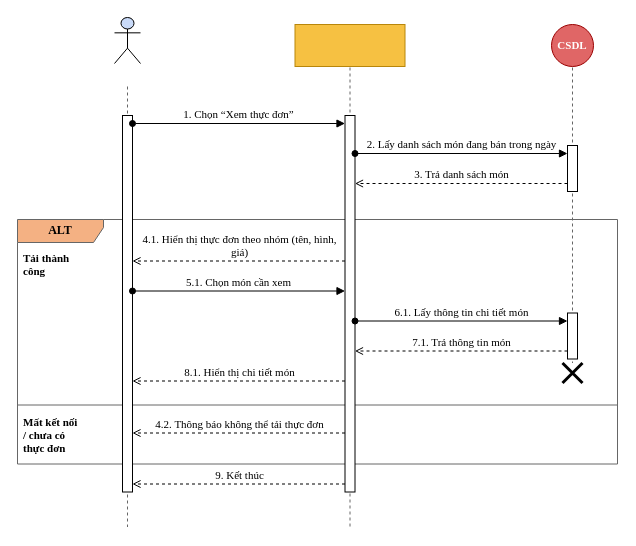
The diagram is 636 pixels wide and 546 high, and some of its shapes have lost their labels. Each missing label, with the centre of its shape:
"HỆ THỐNG" belongs at point (349, 45).
"Khách hàng" belongs at point (127, 40).
